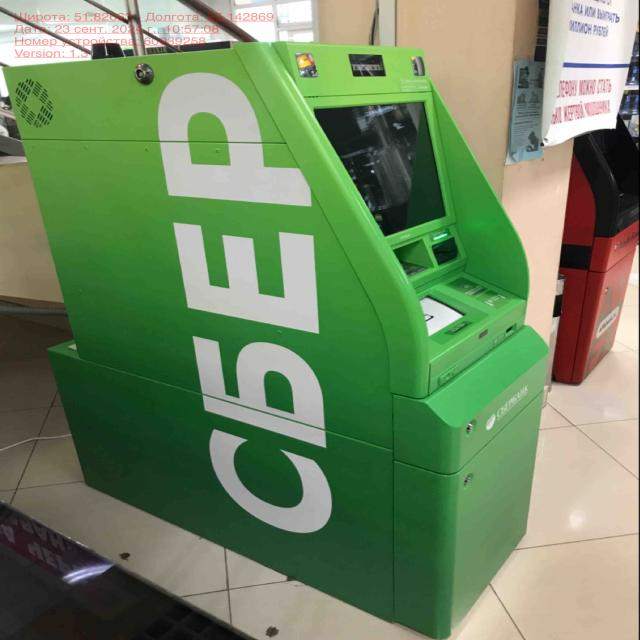bank: (2, 41, 546, 640)
